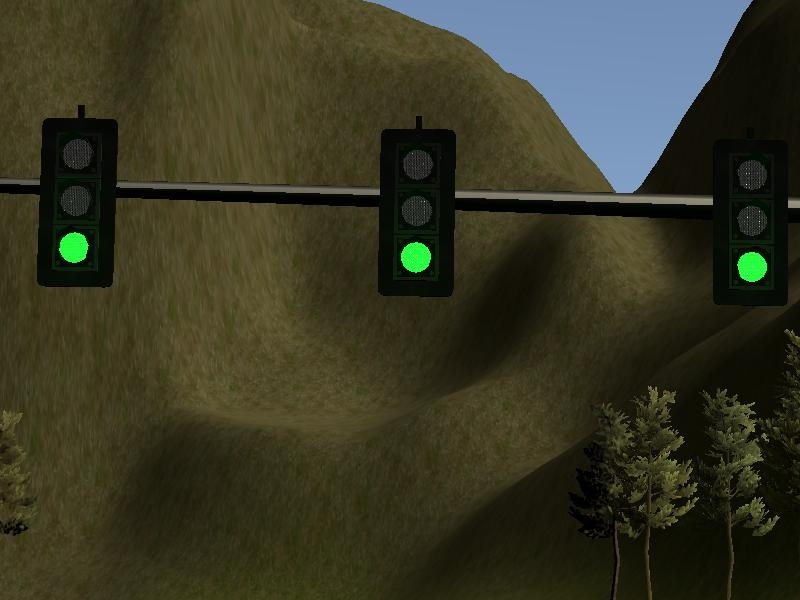GREEN: (378, 129, 456, 296), (38, 119, 116, 286), (713, 141, 787, 304)
